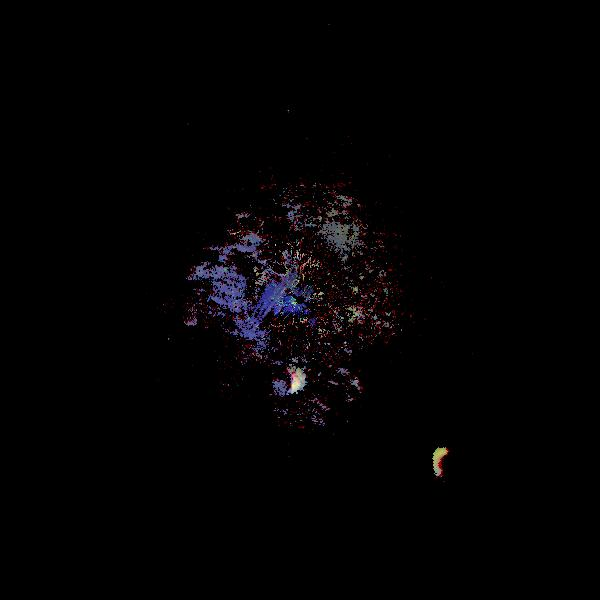roost: (429, 439, 480, 490), (276, 362, 312, 398)
